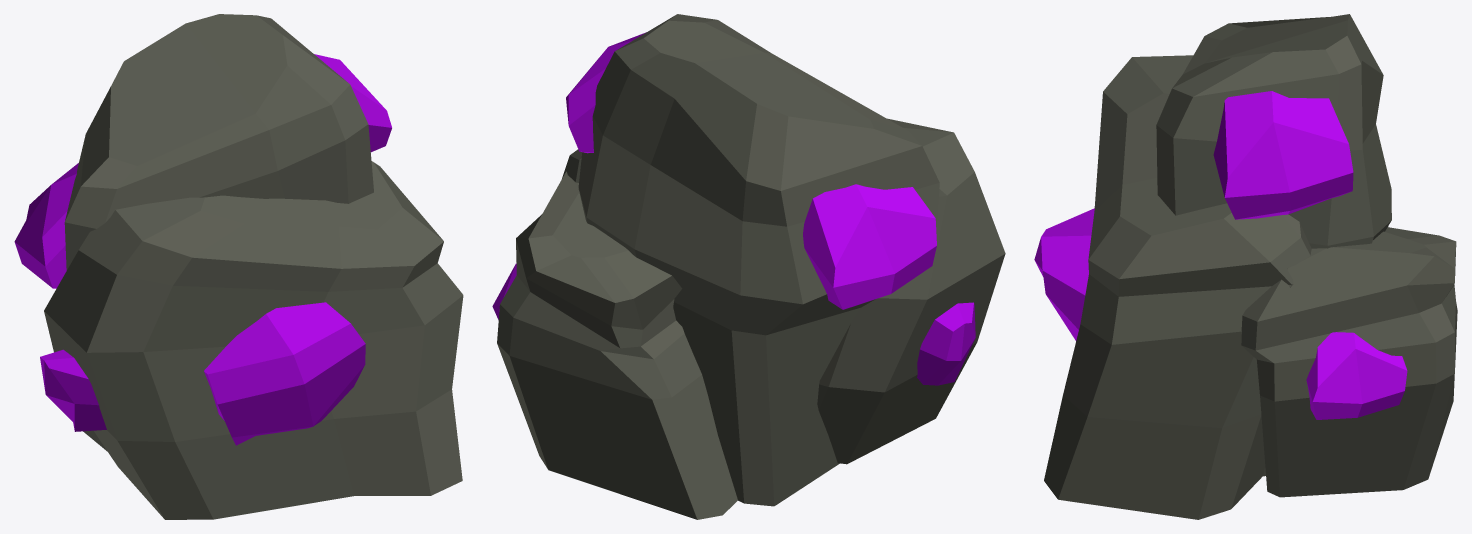
The model's file is Ore2_Purple.fbx.
3 renders of one model, left to right at view 1: azimuth 30°, elevation 25°; view 2: azimuth 150°, elevation 25°; view 3: azimuth 270°, elevation 25°, orthographic. The views are drawn at different scales.
Visible parts, largest first — view 1: Ore2_Purple, Purple; view 2: Ore2_Purple, Purple; view 3: Ore2_Purple, Purple.
Part boxes in pixels (<box>): Ore2_Purple: <box>44,14,463,519</box>; Purple: <box>14,54,391,445</box>; Ore2_Purple: <box>497,14,1005,519</box>; Purple: <box>492,32,975,385</box>; Ore2_Purple: <box>1044,14,1457,519</box>; Purple: <box>1034,91,1407,419</box>.
Size of the model in its own units: 211 by 201 by 188.
